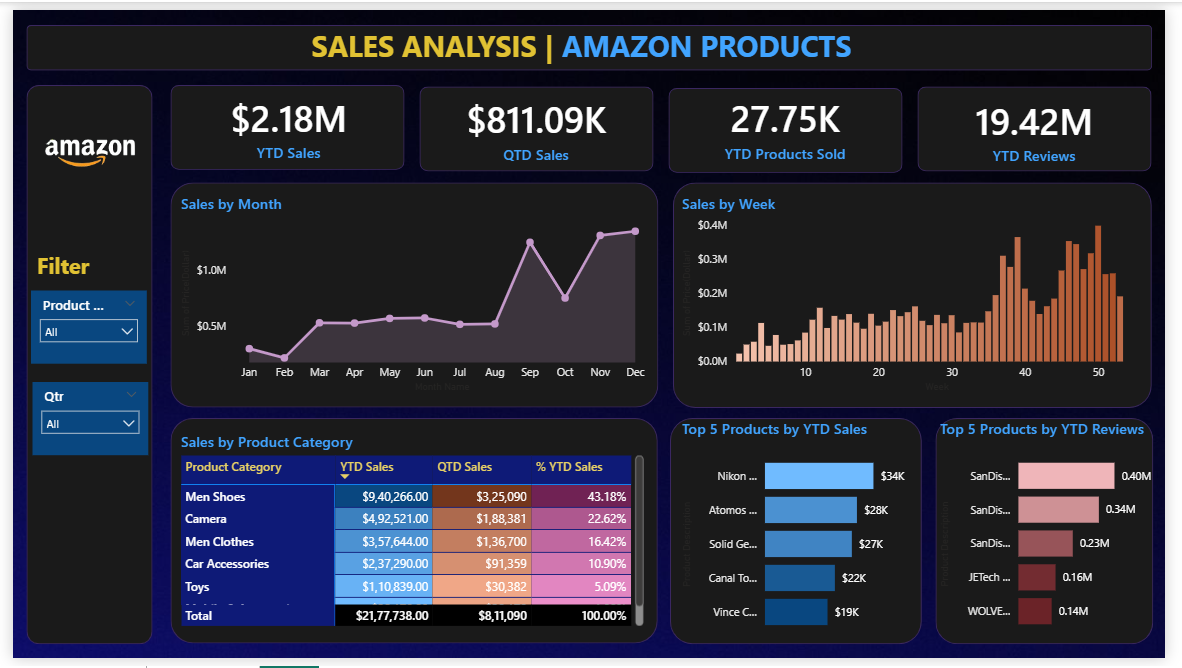

The page's visual inventory and layout, read from the dashboard file:
{"tool":"powerbi","page":{"name":"Page 1","canvas":[1280,720],"ordinal":0},"visuals":[{"type":"shape","box":[14.6,16.3,1250.8,50.4],"z":0},{"type":"textbox","box":[326.9,11.4,624.6,60.2],"z":1000},{"type":"shape","box":[14.6,83,140,621.3],"z":2000},{"type":"shape","box":[175.7,83,260.2,94.3],"z":3000},{"type":"card","fields":{"Values":["Amazon_Data.YTD Sales"]},"box":[182.2,84.6,248.9,89.5],"z":4000},{"type":"shape","box":[452.2,84.6,260.2,94.3],"z":5000},{"type":"card","fields":{"Values":["Amazon_Data.QTD Sales"]},"box":[457.1,86.2,248.9,89.5],"z":6000},{"type":"shape","box":[728.7,86.2,260.2,94.3],"z":7000},{"type":"shape","box":[1005.2,84.6,260.2,94.3],"z":8000},{"type":"card","fields":{"Values":["Amazon_Data.YTD Products Sold"]},"box":[733.6,86.2,248.9,87.8],"z":9000},{"type":"card","fields":{"Values":["Amazon_Data.YTD Reviews"]},"box":[1010.1,87.8,248.9,89.5],"z":10000},{"type":"shape","box":[175.7,191.9,542,250],"z":11000},{"type":"areaChart","title":"Sales by Month","fields":{"Category":["Date Table.Month Name"],"Y":["Sum(Amazon_Data.Price(Dollar))"]},"box":[182.2,203.3,530.3,226.1],"z":12000},{"type":"shape","box":[733.6,191.9,531.9,250.5],"z":13000},{"type":"columnChart","title":"Sales by Week","fields":{"Category":["Date Table.Week"],"Y":["Sum(Amazon_Data.Price(Dollar))"]},"box":[738.5,203.3,520.5,226.1],"z":14000},{"type":"shape","box":[175.7,453.8,541.6,250.5],"z":15000},{"type":"pivotTable","title":"Sales by Product Category","fields":{"Rows":["Amazon_Data.Product Category"],"Values":["Amazon_Data.YTD Sales1","Amazon_Data.QTD Sales","Amazon_Data.YTD Sales"]},"box":[182.2,468.4,530.3,221.2],"z":16000},{"type":"shape","box":[729.5,453.5,279.7,251.3],"z":17000},{"type":"shape","box":[1024.3,453.5,241.9,251.3],"z":18000},{"type":"clusteredBarChart","title":"Top 5 Products by YTD Sales","fields":{"Category":["Amazon_Data.Product Description"],"Y":["Amazon_Data.YTD Sales"]},"box":[738.9,453.5,266.5,251.3],"z":19000},{"type":"clusteredBarChart","title":"Top 5 Products by YTD Reviews","fields":{"Category":["Amazon_Data.Product Description"],"Y":["Amazon_Data.YTD Reviews"]},"box":[1024.7,453.8,247.2,250.5],"z":20000},{"type":"slicer","fields":{"Values":["Amazon_Data.Product Category"]},"box":[19.5,312.3,128.5,81.3],"z":21000},{"type":"slicer","fields":{"Values":["Date Table.Qtr"]},"box":[21.1,413.1,128.5,81.3],"z":22000},{"type":"image","box":[8.1,71.6,154.5,174],"z":23000},{"type":"textbox","box":[21.1,261.9,126.9,50.4],"z":24000}]}

Visuals, with their boxes in screenshot pixels (x1, y1, x2, y2), scaled from the page's 1280x720 canvas onto the 1182x668 screenshot:
shape: 13, 15, 1169, 62
textbox: 302, 11, 879, 66
shape: 13, 77, 143, 653
shape: 162, 77, 403, 164
card - Amazon_Data.YTD Sales: 168, 78, 398, 162
shape: 418, 78, 658, 166
card - Amazon_Data.QTD Sales: 422, 80, 652, 163
shape: 673, 80, 913, 167
shape: 928, 78, 1169, 166
card - Amazon_Data.YTD Products Sold: 677, 80, 907, 161
card - Amazon_Data.YTD Reviews: 933, 81, 1163, 164
shape: 162, 178, 663, 410
"Sales by Month" areaChart: 168, 189, 658, 398
shape: 677, 178, 1169, 410
"Sales by Week" columnChart: 682, 189, 1163, 398
shape: 162, 421, 662, 653
"Sales by Product Category" pivotTable: 168, 435, 658, 640
shape: 674, 421, 932, 654
shape: 946, 421, 1169, 654
"Top 5 Products by YTD Sales" clusteredBarChart: 682, 421, 928, 654
"Top 5 Products by YTD Reviews" clusteredBarChart: 946, 421, 1175, 653
slicer - Amazon_Data.Product Category: 18, 290, 137, 365
slicer - Date Table.Qtr: 19, 383, 138, 459
image: 7, 66, 150, 228
textbox: 19, 243, 137, 290
